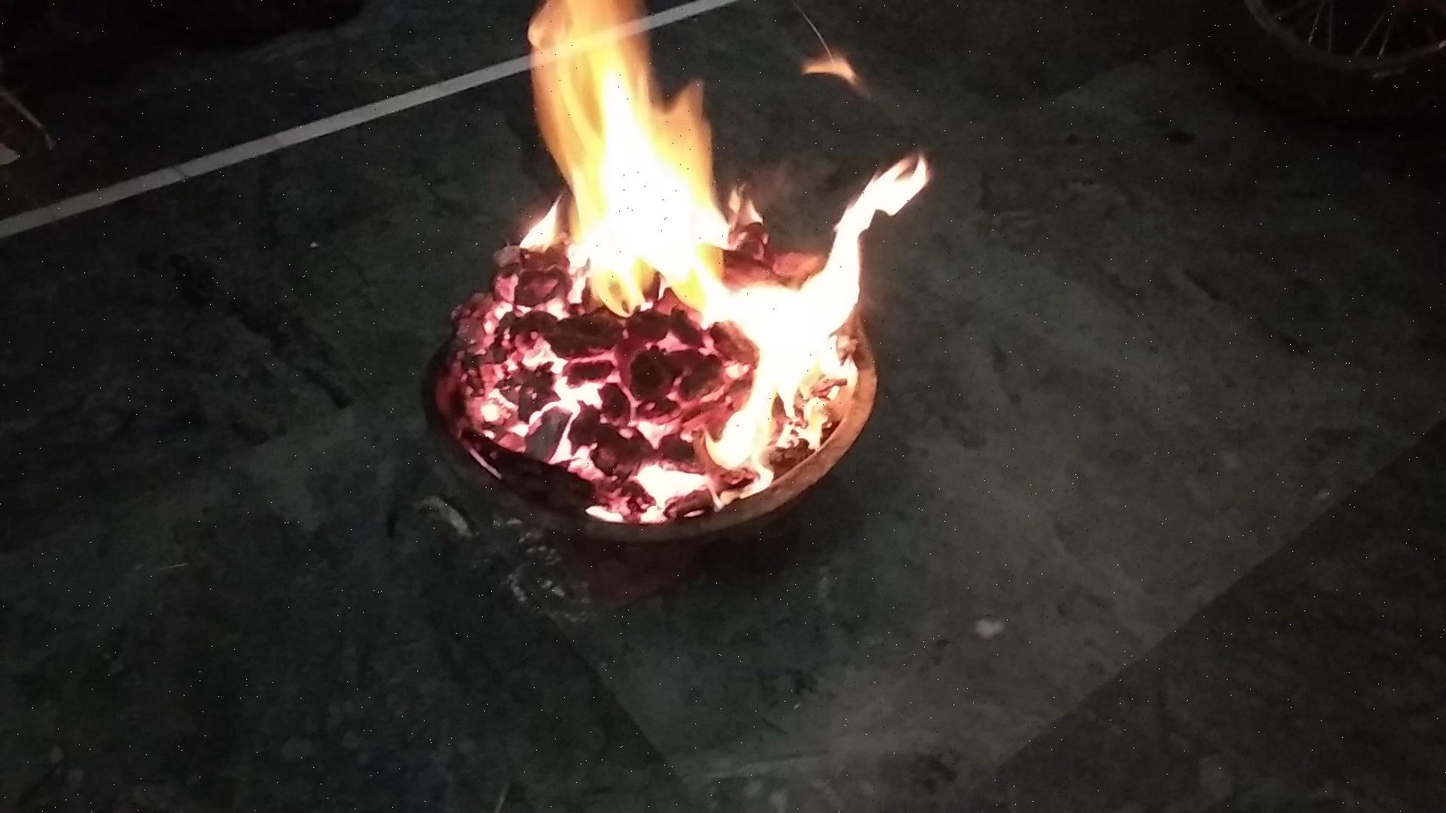fire: (515, 8, 934, 535), (438, 231, 515, 487)
